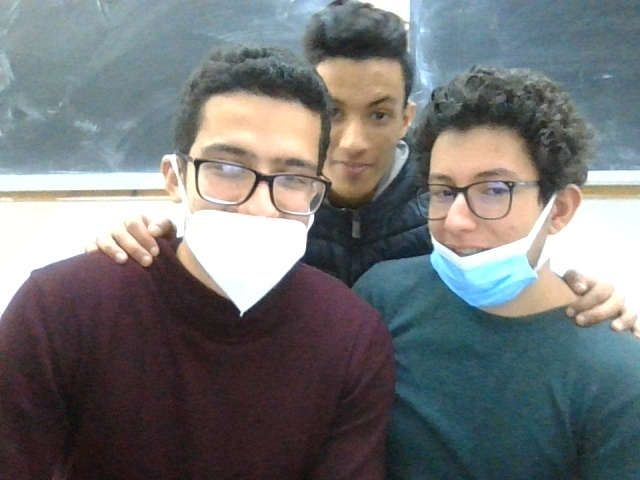mask_weared_incorrect: (163, 44, 326, 317), (428, 70, 585, 310)
without_mask: (315, 3, 421, 204)
